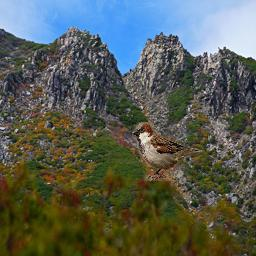Sparrow: (133, 123, 206, 182)
